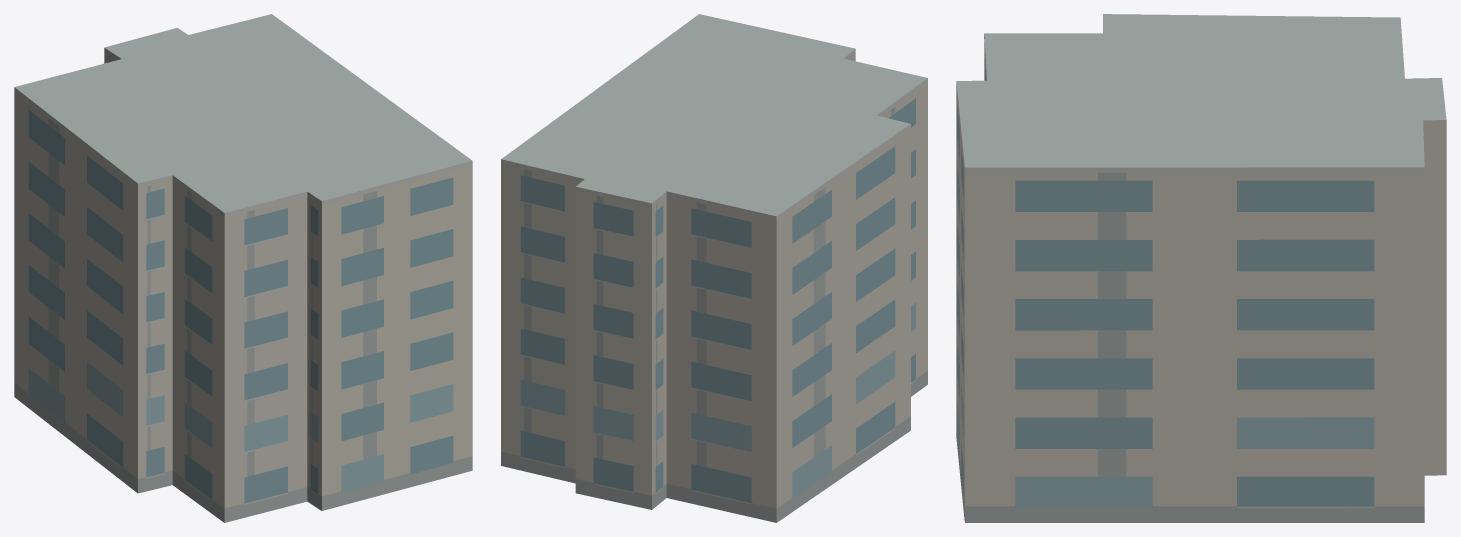
File: survey-upis-32823136.glb
3 renders of one model, left to right at view 1: azimuth 30°, elevation 25°; view 2: azimuth 150°, elevation 25°; view 3: azimuth 270°, elevation 25°, orthographic. The views are drawn at different scales.
Visible parts, largest first — view 1: survey-upis-32823136.tmp; view 2: survey-upis-32823136.tmp; view 3: survey-upis-32823136.tmp.
Boxes of the visible parts, x1,y1,x2,y2 form: survey-upis-32823136.tmp: [14, 14, 472, 522]; survey-upis-32823136.tmp: [501, 14, 927, 522]; survey-upis-32823136.tmp: [956, 14, 1446, 522].
Size of the model in its own units: 15.39 by 16.6 by 20.76.
